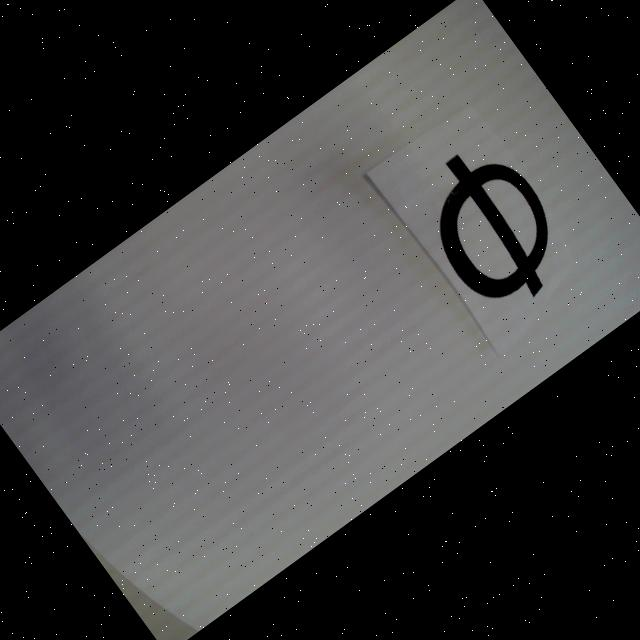PHI: (399, 128, 586, 325)
